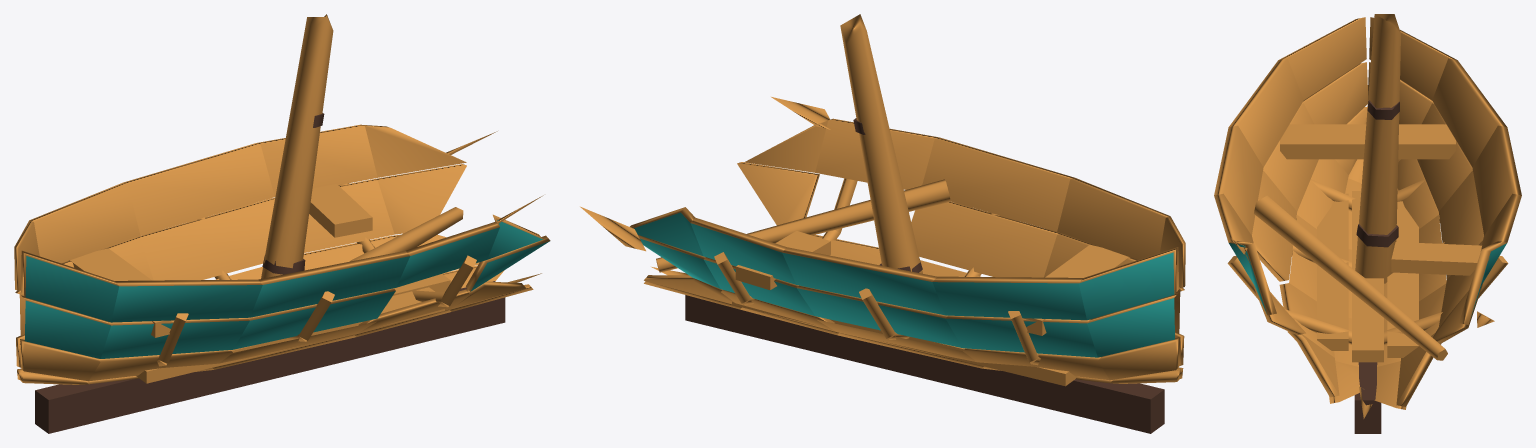
File: shipwreck.glb
3 renders of one model, left to right at view 1: azimuth 30°, elevation 25°; view 2: azimuth 150°, elevation 25°; view 3: azimuth 270°, elevation 25°, orthographic. The views are drawn at different scales.
Visible parts, largest first — view 1: exposed-keel, broken-standing-mast, hull-port-plank-3-2, hull-port-plank-2-2, hull-starboard-plank-3-1, hull-port-plank-3-1, hull-starboard-plank-3-2, hull-starboard-plank-3-0, hull-starboard-plank-2-1, hull-port-plank-3-3, hull-starboard-plank-2-2, hull-port-plank-2-4 (+24 smaller); view 2: exposed-keel, broken-standing-mast, hull-starboard-plank-2-2, hull-starboard-plank-3-2, hull-port-plank-3-1, hull-starboard-plank-3-1, hull-port-plank-3-2, hull-port-plank-3-0, hull-port-plank-2-1, hull-starboard-plank-3-3, hull-port-plank-2-2, hull-port-plank-2-0 (+24 smaller); view 3: broken-standing-mast, bow-bench, fallen-broken-spar, hull-port-plank-3-1, hull-starboard-plank-3-1, hull-starboard-plank-3-0, interior-floorboard-2, hull-port-plank-3-2, hull-starboard-plank-3-2, broken-bench-port, interior-floorboard-0, hull-starboard-plank-2-0 (+35 smaller).
Part boxes in pixels (<box>): exposed-keel: <box>35,281,505,433</box>; broken-standing-mast: <box>261,14,333,278</box>; hull-port-plank-3-2: <box>123,143,274,235</box>; hull-port-plank-2-2: <box>136,198,274,280</box>; hull-starboard-plank-3-1: <box>111,279,262,322</box>; hull-port-plank-3-1: <box>29,182,140,263</box>; hull-starboard-plank-3-2: <box>250,250,409,317</box>; hull-starboard-plank-3-0: <box>21,250,119,322</box>; hull-starboard-plank-2-1: <box>100,318,249,358</box>; hull-port-plank-3-3: <box>256,124,377,196</box>; hull-starboard-plank-2-2: <box>233,288,395,349</box>; hull-port-plank-2-4: <box>373,164,466,234</box>; exposed-keel: <box>685,295,1164,433</box>; broken-standing-mast: <box>840,14,922,273</box>; hull-starboard-plank-2-2: <box>911,201,1060,277</box>; hull-starboard-plank-3-2: <box>922,137,1074,231</box>; hull-port-plank-3-1: <box>932,276,1086,320</box>; hull-starboard-plank-3-1: <box>1057,178,1169,259</box>; hull-port-plank-3-2: <box>782,247,945,315</box>; hull-port-plank-3-0: <box>1079,247,1178,320</box>; hull-port-plank-2-1: <box>945,315,1097,357</box>; hull-starboard-plank-3-3: <box>815,118,938,189</box>; hull-port-plank-2-2: <box>797,285,962,347</box>; hull-port-plank-2-0: <box>1087,292,1178,357</box>; broken-standing-mast: <box>1355,14,1400,283</box>; bow-bench: <box>1280,124,1455,159</box>; fallen-broken-spar: <box>1254,195,1447,360</box>; hull-port-plank-3-1: <box>1432,58,1506,166</box>; hull-starboard-plank-3-1: <box>1229,58,1303,166</box>; hull-starboard-plank-3-0: <box>1279,17,1366,99</box>; interior-floorboard-2: <box>1317,193,1348,350</box>; hull-port-plank-3-2: <box>1472,125,1521,235</box>; hull-starboard-plank-3-2: <box>1214,125,1263,235</box>; broken-bench-port: <box>1391,242,1481,275</box>; interior-floorboard-0: <box>1387,189,1418,357</box>; hull-starboard-plank-2-0: <box>1302,62,1367,124</box>.
Size of the model in its own units: 1.48 by 0.9 by 0.7429.
